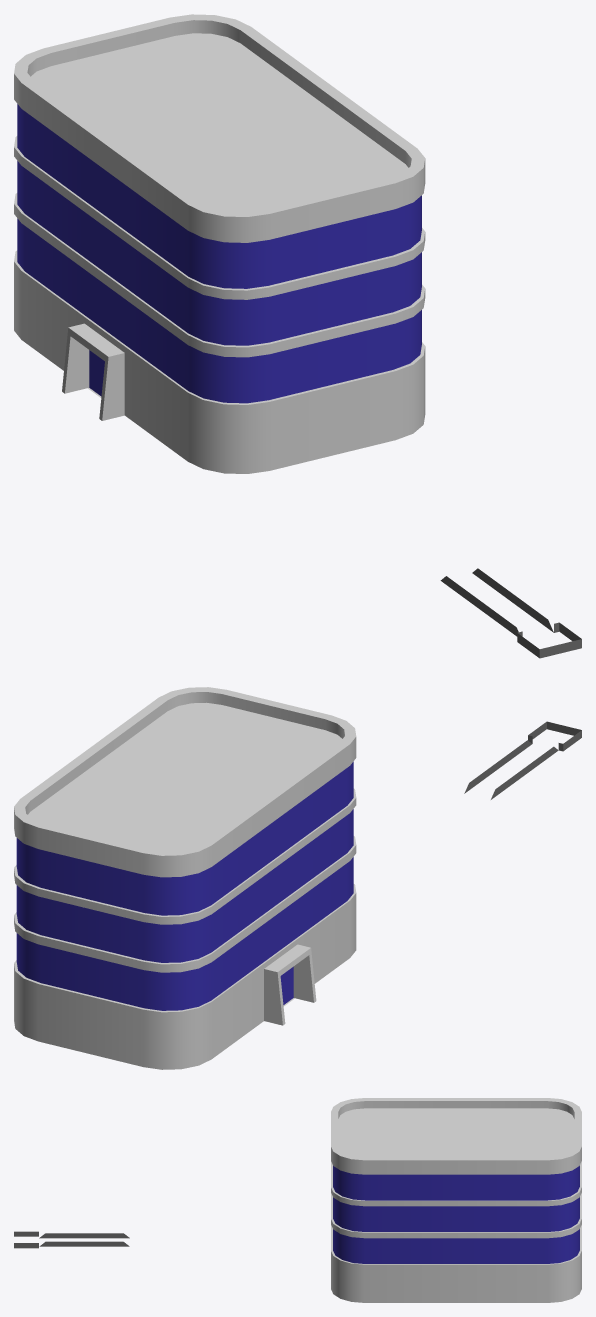
File: A_Command.glb
The picture shows the model from 3 angles, top to bottom: view 1: azimuth 30°, elevation 25°; view 2: azimuth 150°, elevation 25°; view 3: azimuth 270°, elevation 25°; orthographic projection. The views are drawn at different scales.
Parts seen in each view (by area): view 1: Building, Water_Basin_Rail.002, Water_Basin_rail_2.002; view 2: Building, Water_Basin_Rail.002, Water_Basin_rail_2.002; view 3: Building, Water_Basin_Rail.002, Water_Basin_rail_2.002.
Boxes of the visible parts, <box> form: Building: <box>14,14,425,473</box>; Water_Basin_Rail.002: <box>440,568,553,636</box>; Water_Basin_rail_2.002: <box>517,622,581,658</box>; Building: <box>14,687,356,1069</box>; Water_Basin_Rail.002: <box>464,740,558,799</box>; Water_Basin_rail_2.002: <box>528,721,581,751</box>; Building: <box>331,1098,581,1302</box>; Water_Basin_Rail.002: <box>39,1233,129,1246</box>; Water_Basin_rail_2.002: <box>14,1231,38,1248</box>.
Size of the model in its own units: 2.79 by 2.72 by 9.8.
